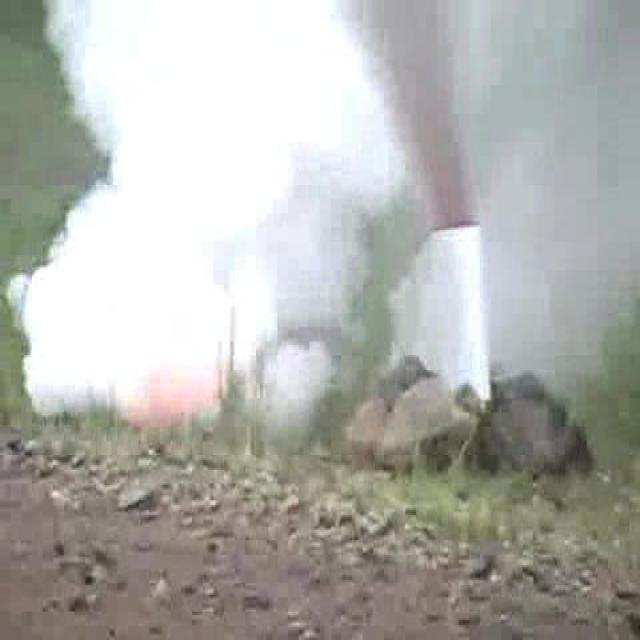Smoke: (48, 0, 379, 440)
